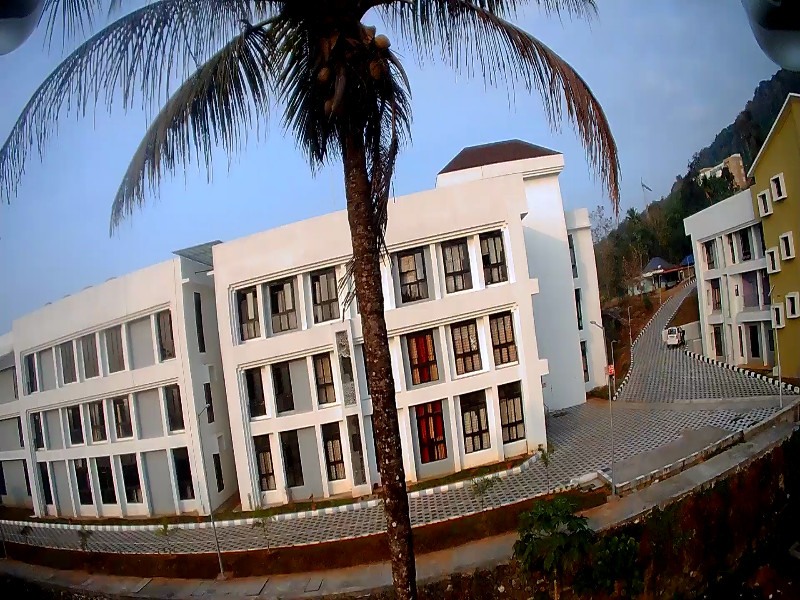coconut: (366, 61, 383, 81), (375, 32, 389, 53), (315, 65, 329, 85), (323, 99, 337, 114)
